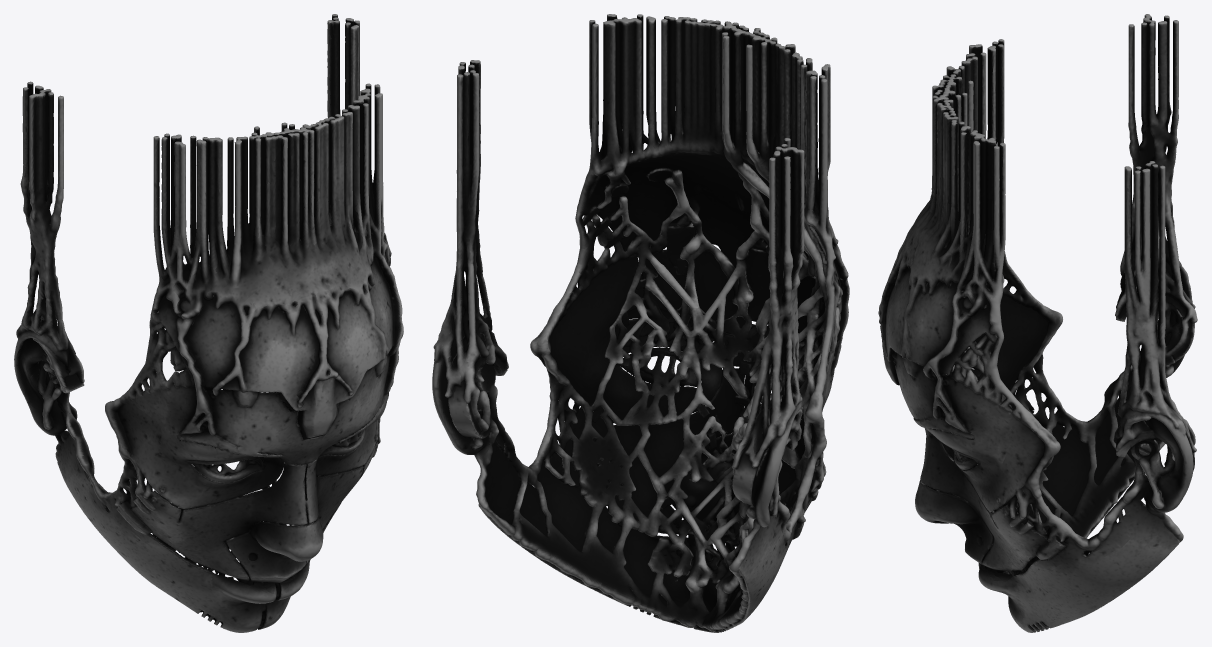
3 views of the same model, side by side, from view 1: azimuth 30°, elevation 25°; view 2: azimuth 150°, elevation 25°; view 3: azimuth 270°, elevation 25° (orthographic). The views are drawn at different scales.
Parts seen in each view (by area): view 1: Head1:Mesh; view 2: Head1:Mesh; view 3: Head1:Mesh.
Boxes of the visible parts, x1,y1,x2,y2 form: Head1:Mesh: (14, 14, 403, 632); Head1:Mesh: (432, 14, 849, 632); Head1:Mesh: (878, 14, 1197, 632).
Bounding box in the file's own units: 342 × 525 × 287.
Materials: 1 (1 with a texture image).
